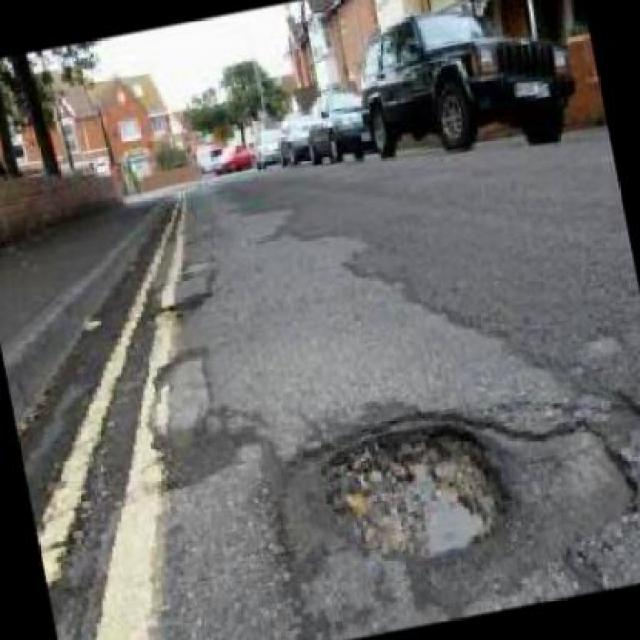pothole1: (302, 400, 518, 582)
